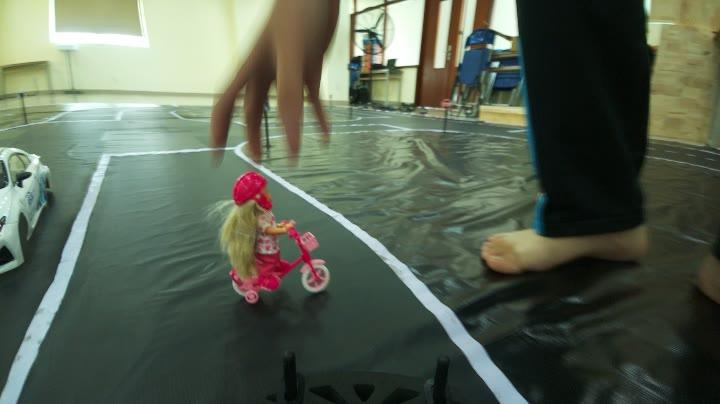pedestrian: (208, 175, 346, 302)
